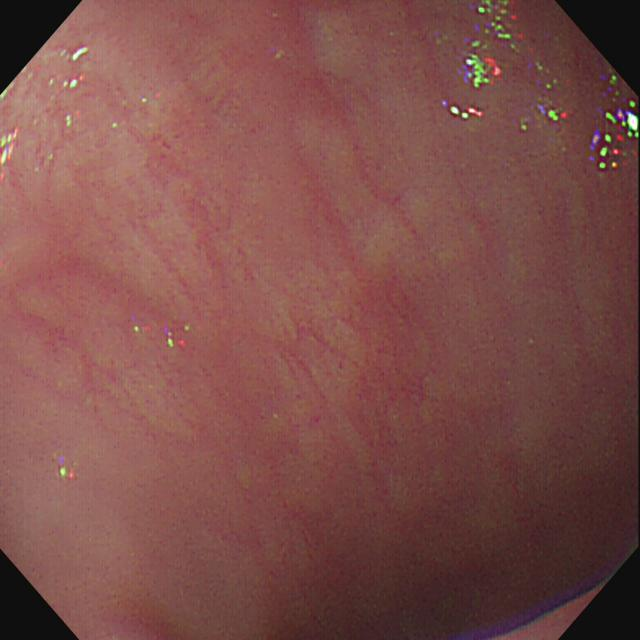U: (461, 2, 526, 89), (589, 69, 640, 172), (536, 96, 574, 124), (2, 128, 21, 167), (449, 105, 484, 123)
